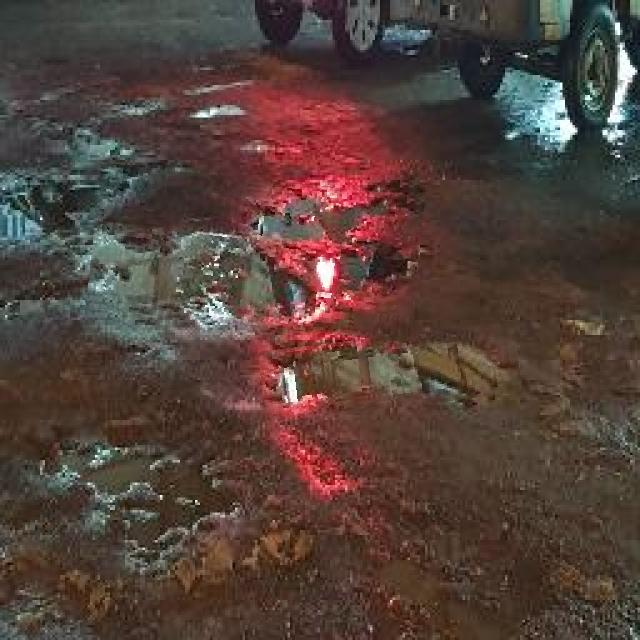puddle: (90, 172, 422, 335), (261, 329, 521, 417)
